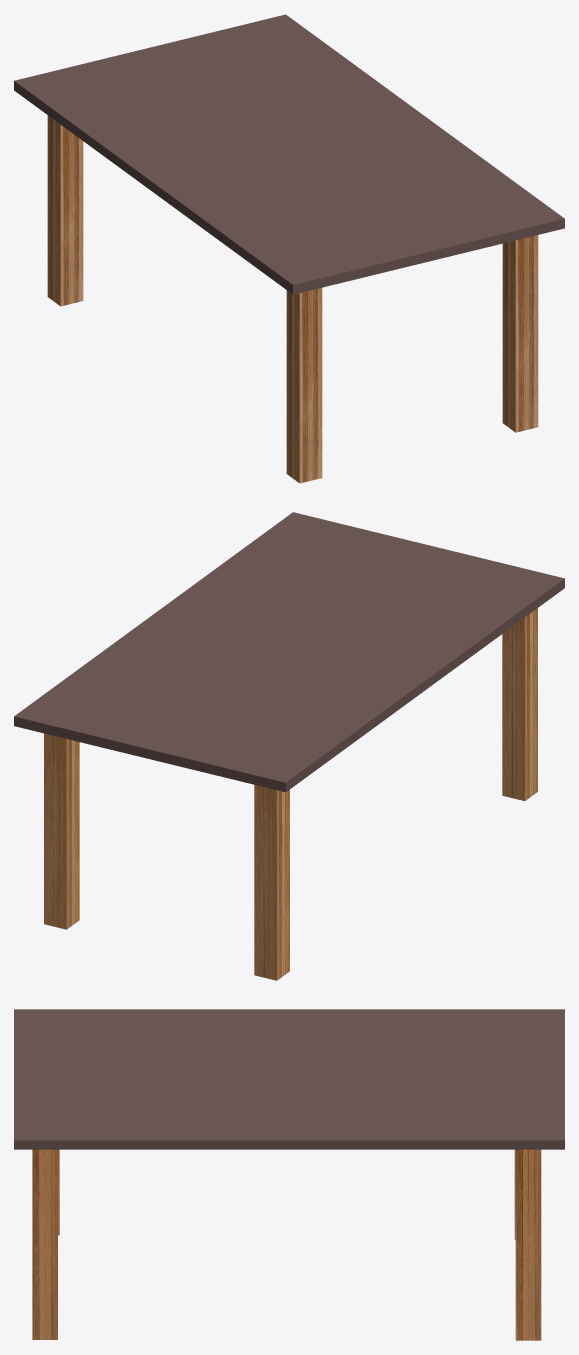
File: table.obj
3 renders of one model, top to bottom at view 1: azimuth 30°, elevation 25°; view 2: azimuth 150°, elevation 25°; view 3: azimuth 270°, elevation 25°, orthographic.
Parts seen in each view (by area): view 1: Cube, Cube.004, Cube.003, Cube.001; view 2: Cube, Cube.001, Cube.002, Cube.003; view 3: Cube, Cube.002, Cube.004.
Part boxes in pixels (x1=…): Cube: x1=14, y1=14, x2=564, y2=294; Cube.004: x1=502, y1=235, x2=538, y2=432; Cube.003: x1=286, y1=287, x2=322, y2=483; Cube.001: x1=47, y1=115, x2=83, y2=306; Cube: x1=14, y1=512, x2=564, y2=792; Cube.001: x1=254, y1=785, x2=289, y2=980; Cube.002: x1=44, y1=733, x2=79, y2=929; Cube.003: x1=502, y1=608, x2=537, y2=800; Cube: x1=14, y1=1009, x2=564, y2=1149; Cube.002: x1=515, y1=1149, x2=541, y2=1340; Cube.004: x1=32, y1=1149, x2=57, y2=1339.
Bounding box in the file's own units: 2.86 × 2.13 × 5.08.
